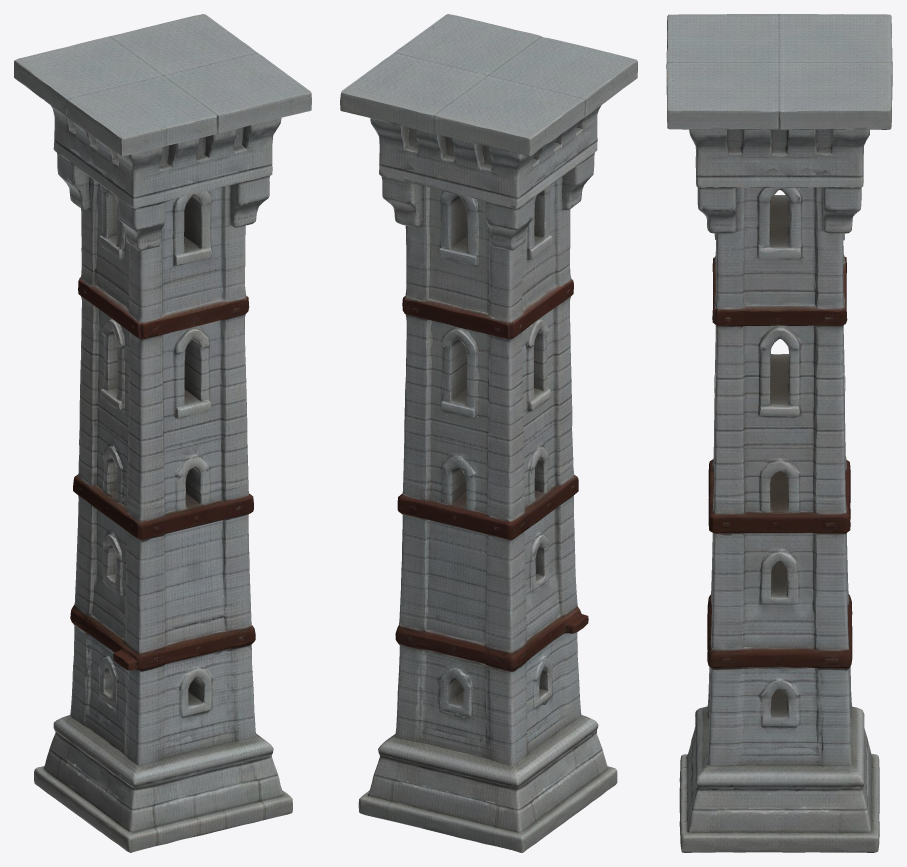
The model's file is mast_stone.glb.
3 renders of one model, left to right at view 1: azimuth 30°, elevation 25°; view 2: azimuth 150°, elevation 25°; view 3: azimuth 270°, elevation 25°, orthographic. The views are drawn at different scales.
Visible parts, largest first — view 1: Mesh; view 2: Mesh; view 3: Mesh.
Part boxes in pixels (bbox=[...]): Mesh: bbox=[14, 14, 311, 852]; Mesh: bbox=[340, 14, 637, 852]; Mesh: bbox=[666, 14, 892, 852].
Bounding box in the file's own units: 0.5252 × 1.89 × 0.5158.
1 material, 1 textured.
